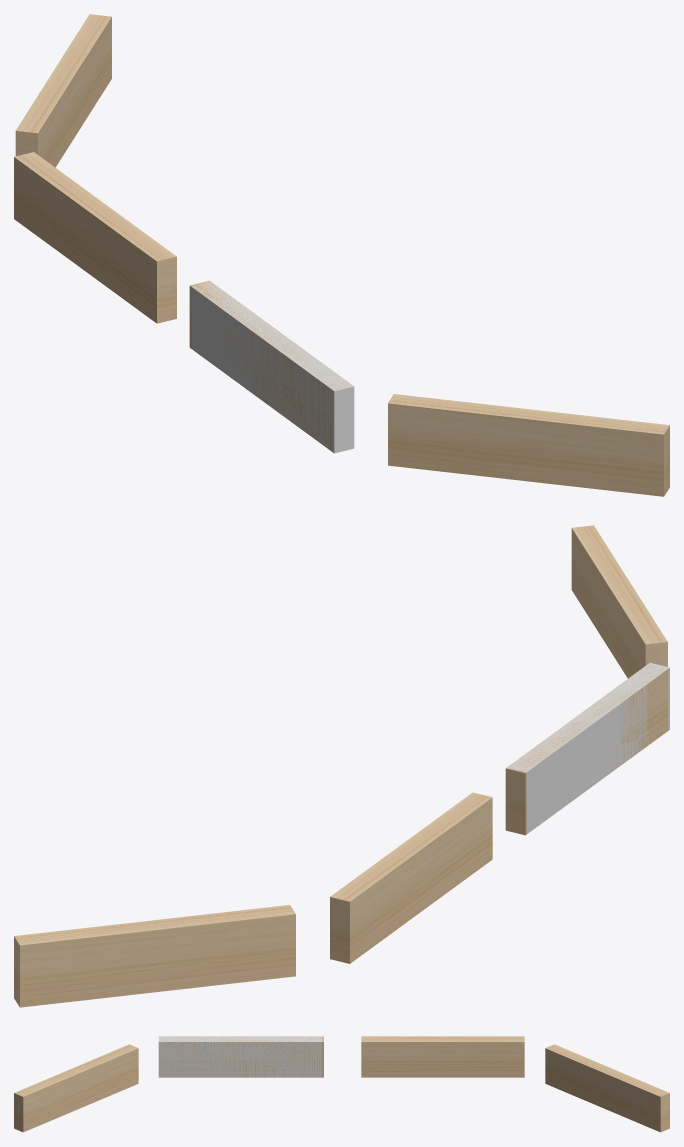
File: molkkaari.glb
3 renders of one model, top to bottom at view 1: azimuth 30°, elevation 25°; view 2: azimuth 150°, elevation 25°; view 3: azimuth 270°, elevation 25°, orthographic. The views are drawn at different scales.
Visible parts, largest first — view 1: Cube.002, Cube.003, Cube, Cube.004, Cube.001; view 2: Cube.004, Cube.003, Cube, Cube.002, Cube.001; view 3: Cube.003, Cube, Cube.002, Cube.004, Cube.001.
Boxes of the visible parts, x1,y1,x2,y2 form: Cube.002: [388, 394, 669, 496]; Cube.003: [14, 152, 176, 323]; Cube: [191, 282, 354, 453]; Cube.004: [15, 14, 111, 167]; Cube.001: [189, 280, 350, 451]; Cube.004: [14, 905, 295, 1007]; Cube.003: [330, 792, 492, 963]; Cube: [507, 662, 669, 833]; Cube.002: [571, 525, 667, 678]; Cube.001: [505, 664, 668, 835]; Cube.003: [361, 1036, 524, 1077]; Cube: [158, 1036, 321, 1077]; Cube.002: [14, 1044, 138, 1132]; Cube.004: [545, 1044, 669, 1132]; Cube.001: [160, 1036, 323, 1077].
Bounding box in the file's own units: 7.3 × 2 × 33.47.
2 materials, 1 textured.
